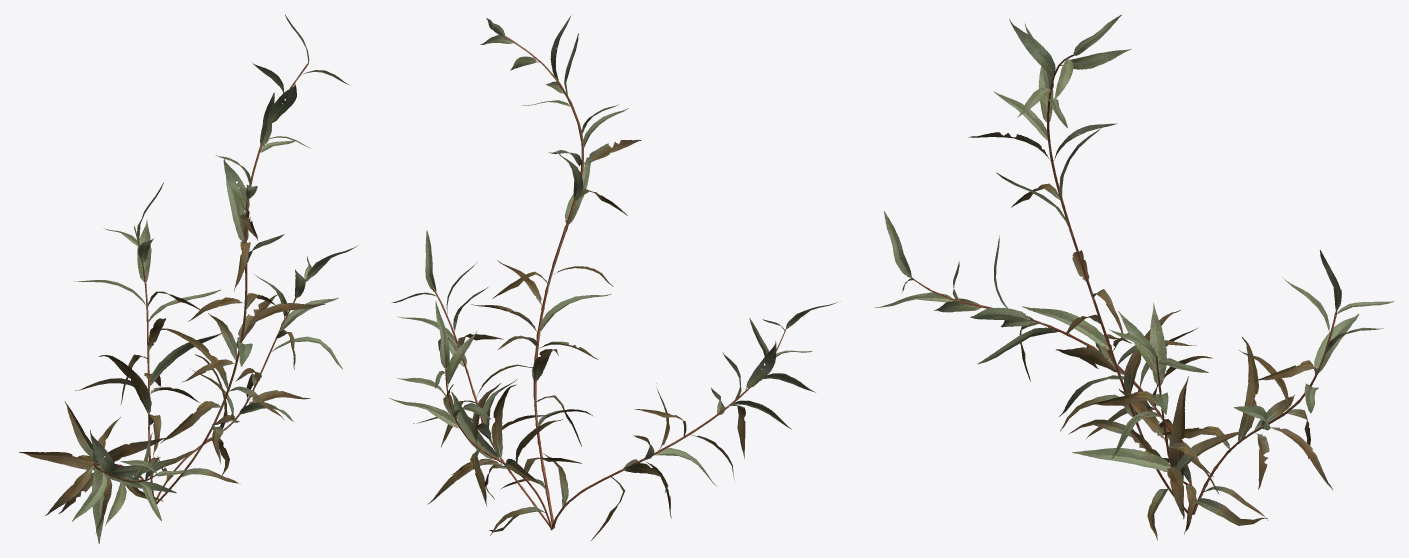
Rendered from shrub_02.glb.
3 renders of one model, left to right at view 1: azimuth 30°, elevation 25°; view 2: azimuth 150°, elevation 25°; view 3: azimuth 270°, elevation 25°, orthographic. The views are drawn at different scales.
Visible parts, largest first — view 1: shrub_02; view 2: shrub_02; view 3: shrub_02.
Boxes of the visible parts, <box> form: shrub_02: <box>19,14,358,543</box>; shrub_02: <box>389,15,840,540</box>; shrub_02: <box>874,14,1394,540</box>.
Size of the model in its own units: 1.11 by 1.51 by 1.28.
1 material, 1 textured.
